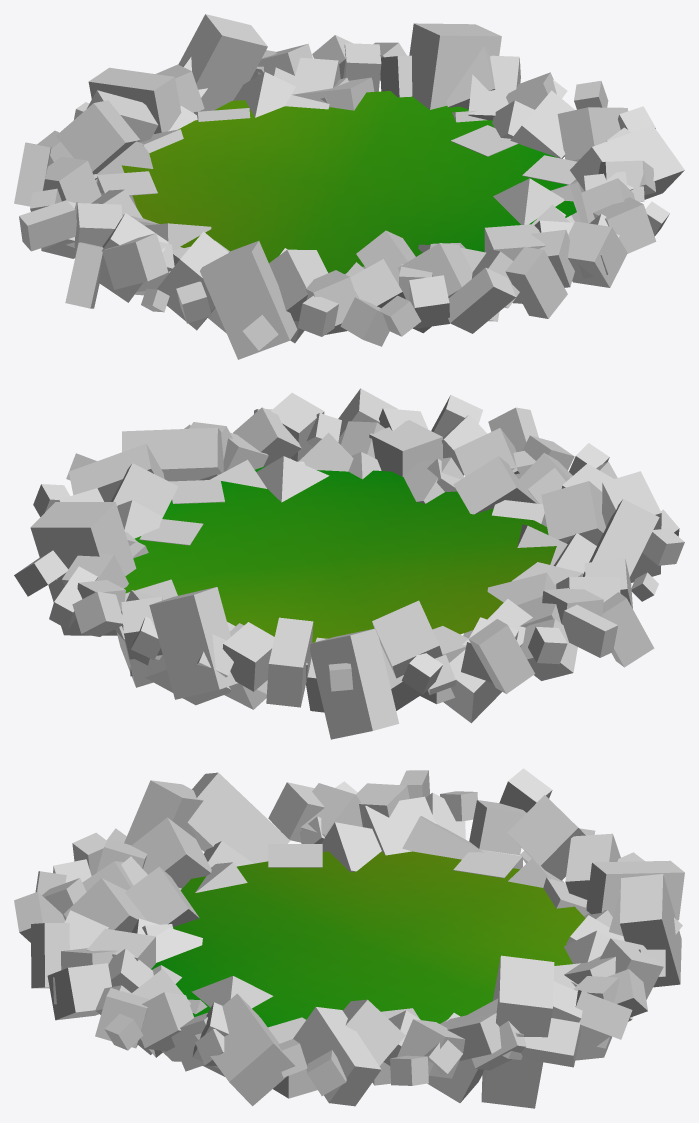
File: hole 1.fbx
3 renders of one model, top to bottom at view 1: azimuth 30°, elevation 25°; view 2: azimuth 150°, elevation 25°; view 3: azimuth 270°, elevation 25°, orthographic. The views are drawn at different scales.
Parts seen in each view (by area): view 1: Cube; view 2: Cube; view 3: Cube.
Part boxes in pixels (<box>): Cube: <box>14,14,684,359</box>; Cube: <box>14,388,684,739</box>; Cube: <box>14,768,684,1108</box>.
Size of the model in its own units: 86.71 by 20.43 by 83.25.
